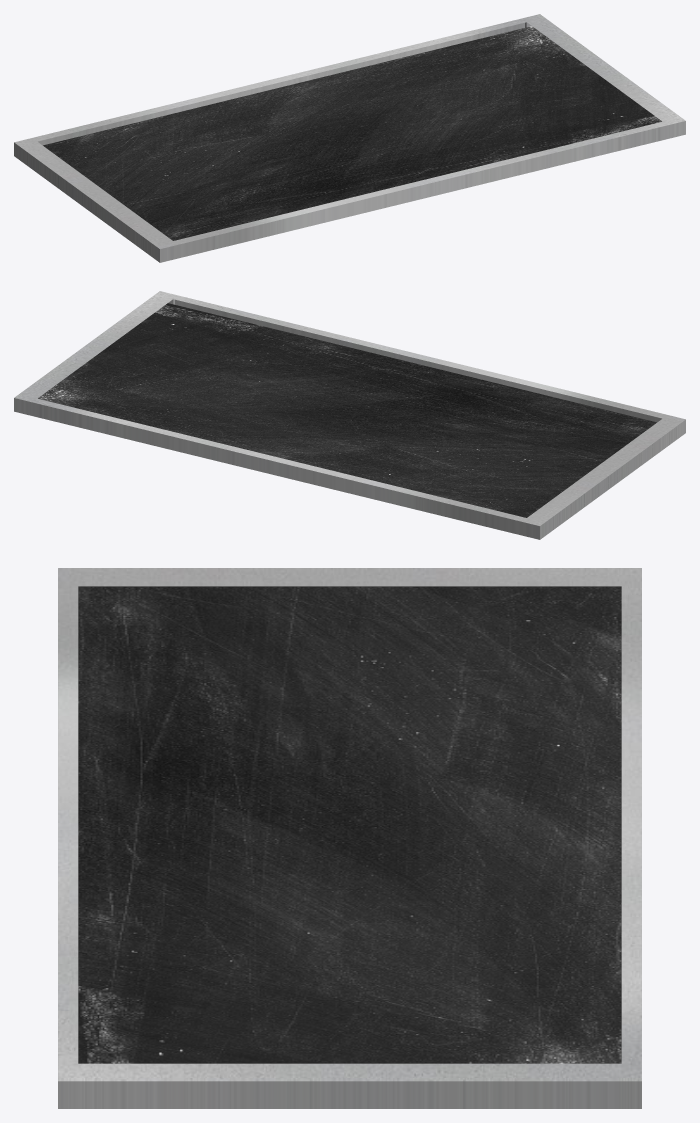
The model's file is chalkboard2.glb.
3 views of the same model, one above another, from view 1: azimuth 30°, elevation 25°; view 2: azimuth 150°, elevation 25°; view 3: azimuth 270°, elevation 25° (orthographic). The views are drawn at different scales.
Visible parts, largest first — view 1: board; view 2: board; view 3: board.
Boxes of the visible parts, x1,y1,x2,y2 form: board: [14, 14, 685, 262]; board: [14, 291, 685, 539]; board: [58, 568, 641, 1108].
Bounding box in the file's own units: 4.16 × 0.1038 × 2.
Materials: 2 (2 with a texture image).
